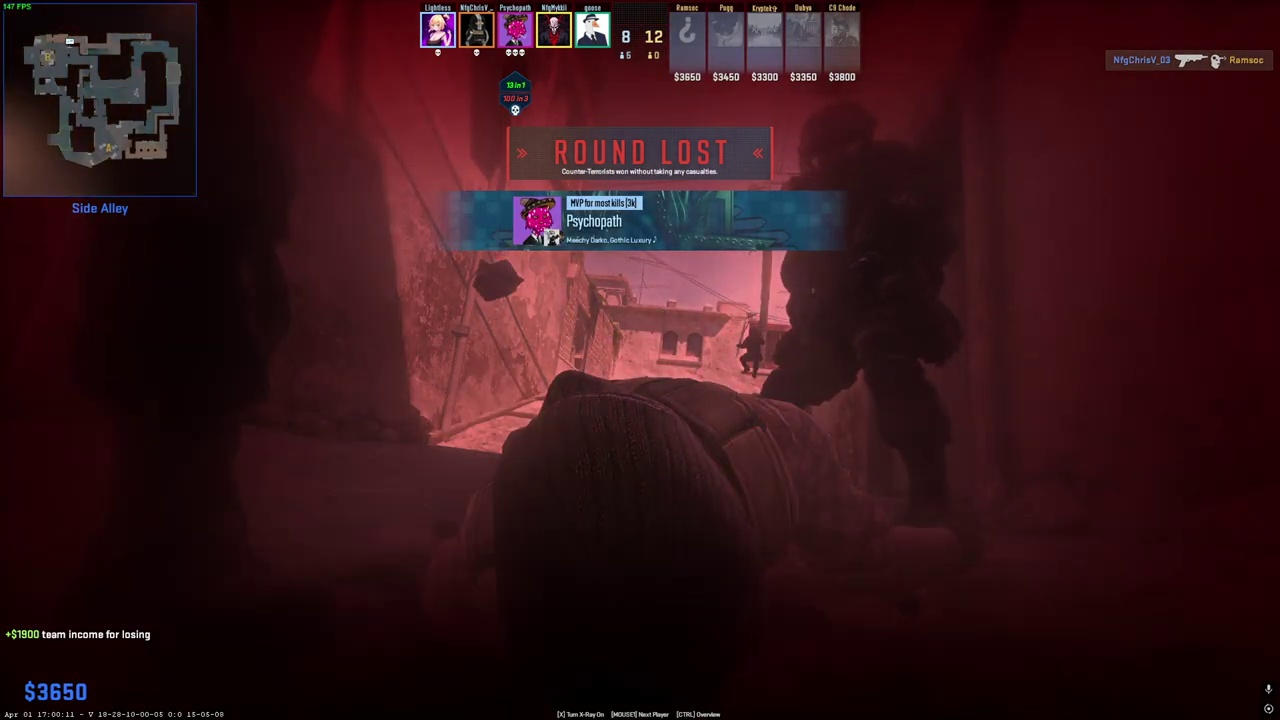CT: (755, 99, 966, 531)
